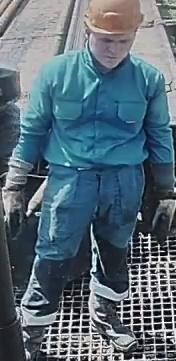gloves: (1, 158, 33, 228), (150, 197, 175, 245)
helmet: (83, 0, 143, 41)
vest: (21, 50, 176, 190)
